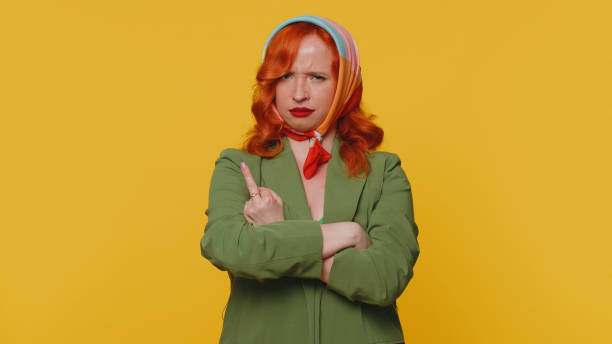insulting_gesture: (234, 158, 290, 231)
